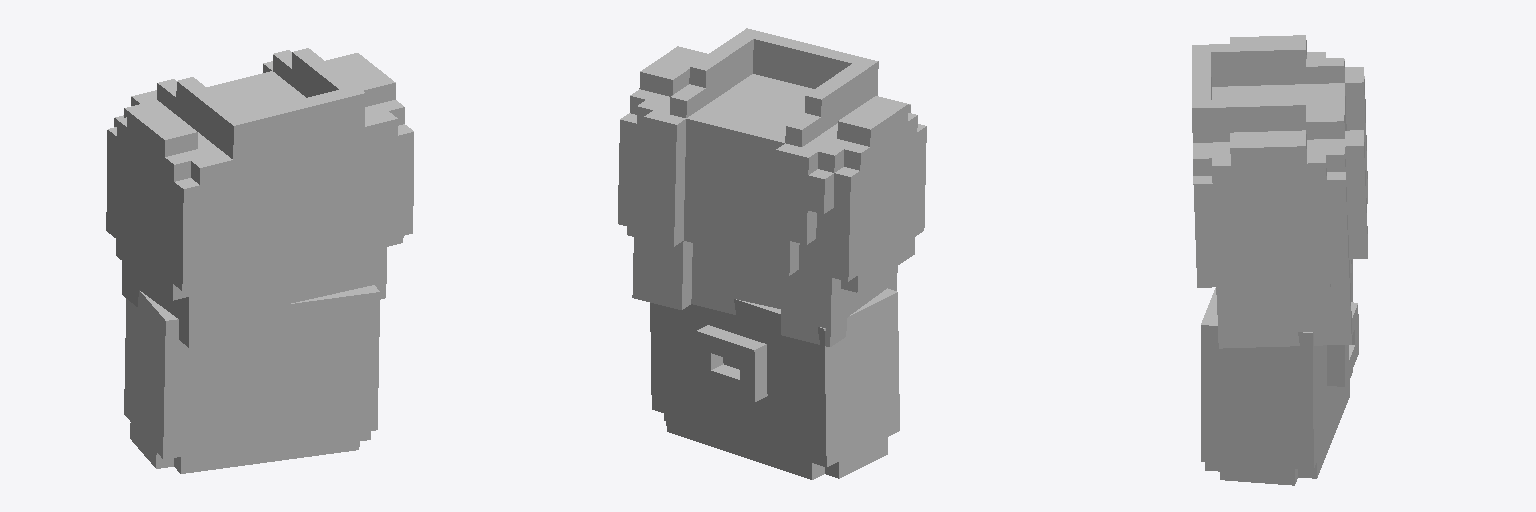
The model's file is Spacehero-chest.obj.
3 renders of one model, left to right at view 1: azimuth 30°, elevation 25°; view 2: azimuth 150°, elevation 25°; view 3: azimuth 270°, elevation 25°, orthographic.
Visible parts, largest first — view 1: Chest-local, Hip-local; view 2: Chest-local, Hip-local; view 3: Chest-local, Hip-local.
Part boxes in pixels (x1,y1,x2,y2): Chest-local: (106, 48, 413, 347); Hip-local: (124, 285, 379, 473); Chest-local: (618, 28, 926, 346); Hip-local: (650, 288, 899, 479); Chest-local: (1192, 35, 1367, 348); Hip-local: (1201, 260, 1358, 485).
Bounding box in the file's own units: 0.1406 × 0.2119 × 0.0929.